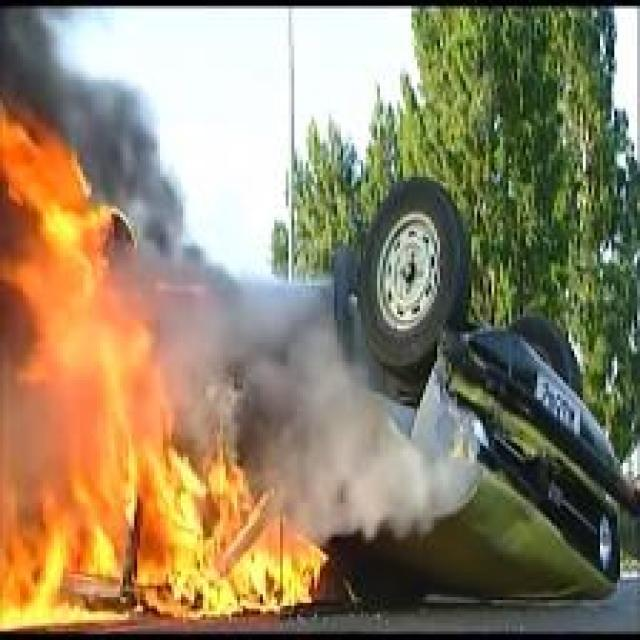Fire: (0, 104, 331, 629)
